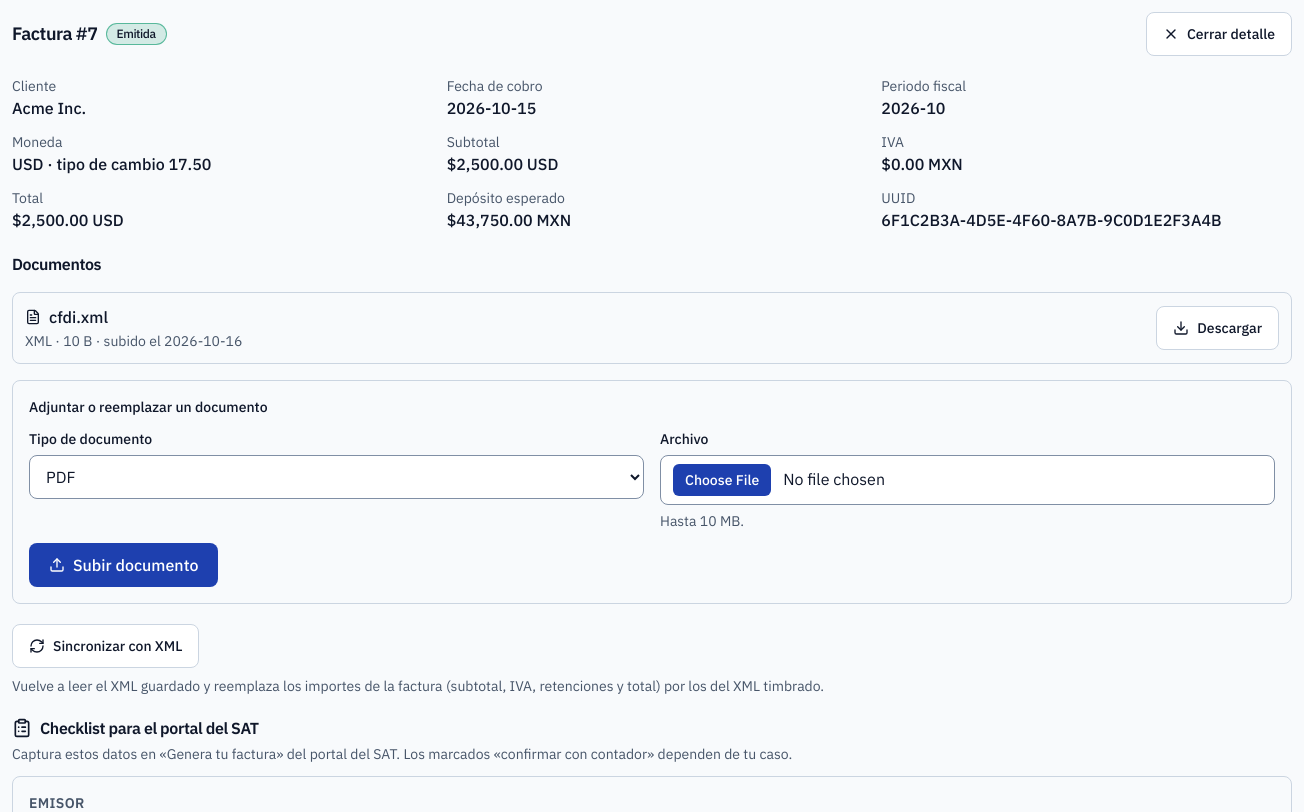
Test: syncing an invoice with its XML › explains a refused resync
The image size is (1304, 812).
Click the button "Sincronizar con XML" at (106, 646), box [12, 624, 199, 668]
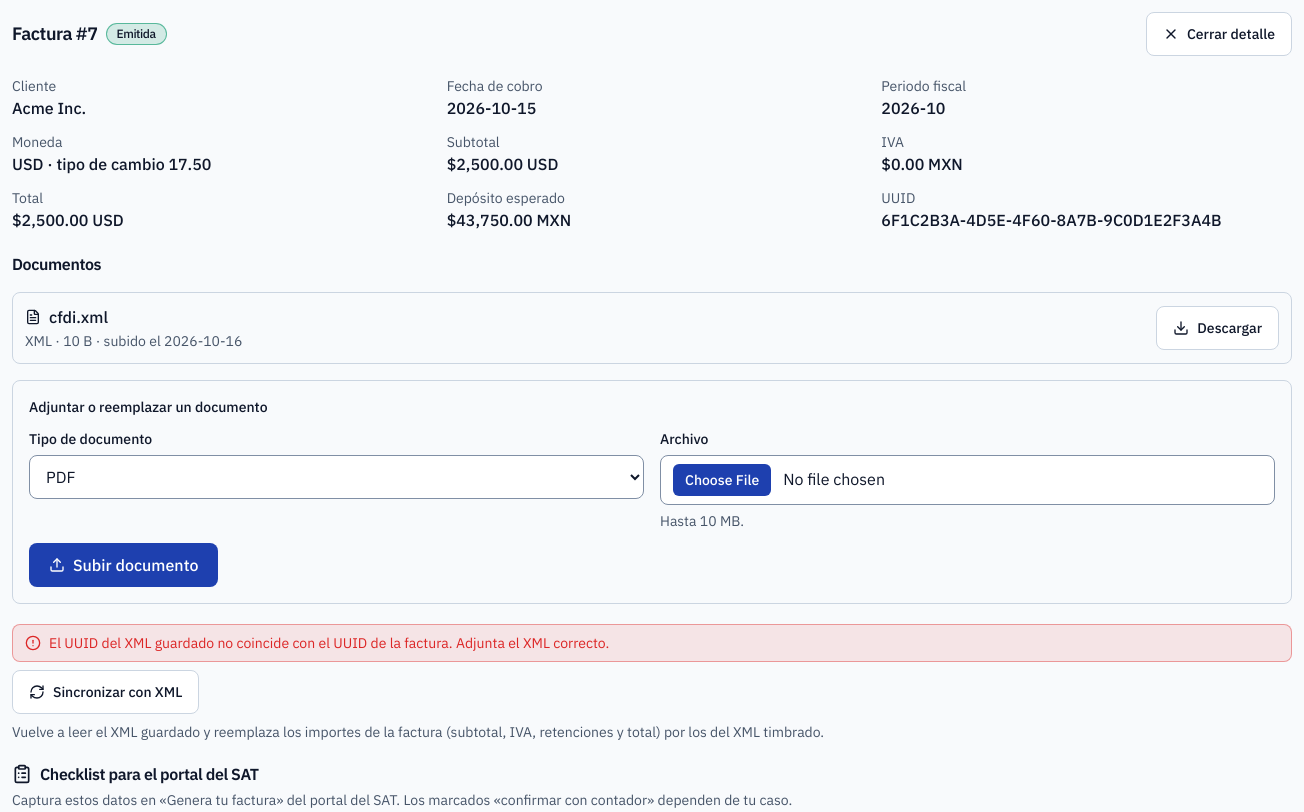
Expected: the text "UUID del XML guardado no coincide" is shown, [49, 634, 609, 652]
